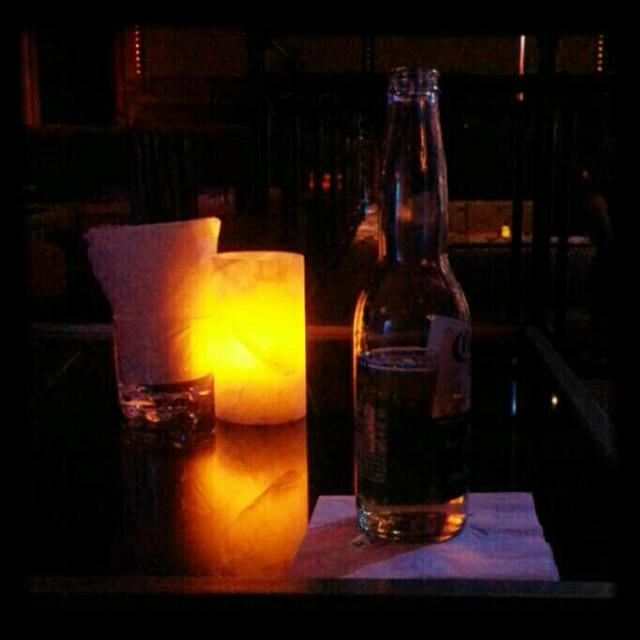Bottle: (339, 67, 497, 594)
Cup: (93, 217, 222, 460)
Table: (12, 294, 640, 640)
